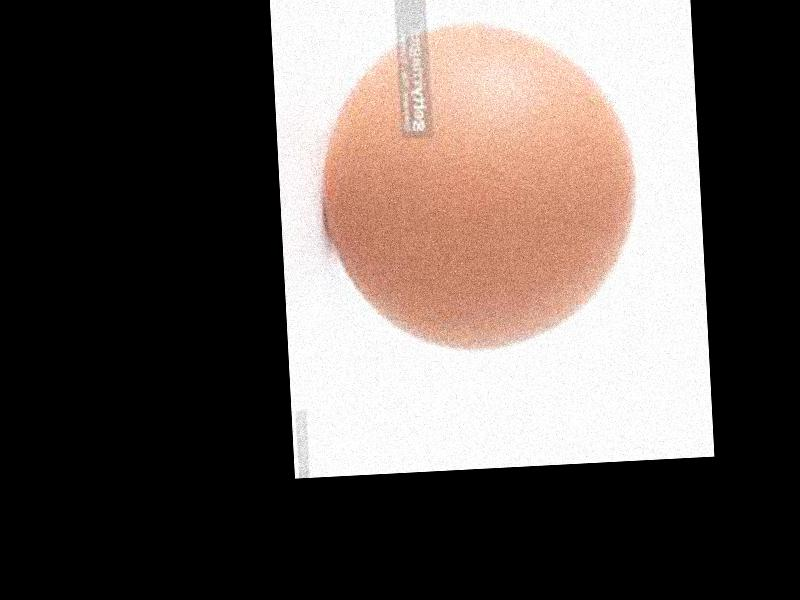Eggs: (321, 14, 644, 356)
